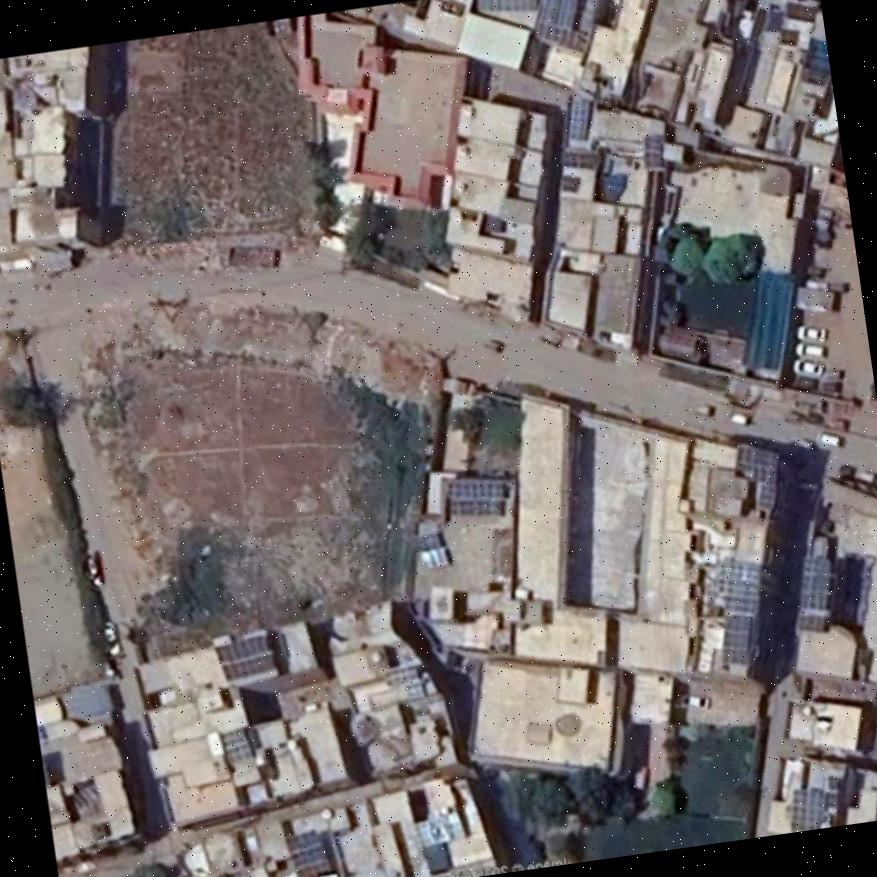Solarpanel: (736, 444, 780, 514), (213, 632, 275, 676), (285, 827, 330, 877), (795, 557, 832, 607), (448, 482, 504, 513), (725, 615, 750, 661), (793, 789, 819, 827), (419, 545, 452, 569), (559, 148, 596, 167), (475, 0, 538, 9), (561, 176, 578, 188)
